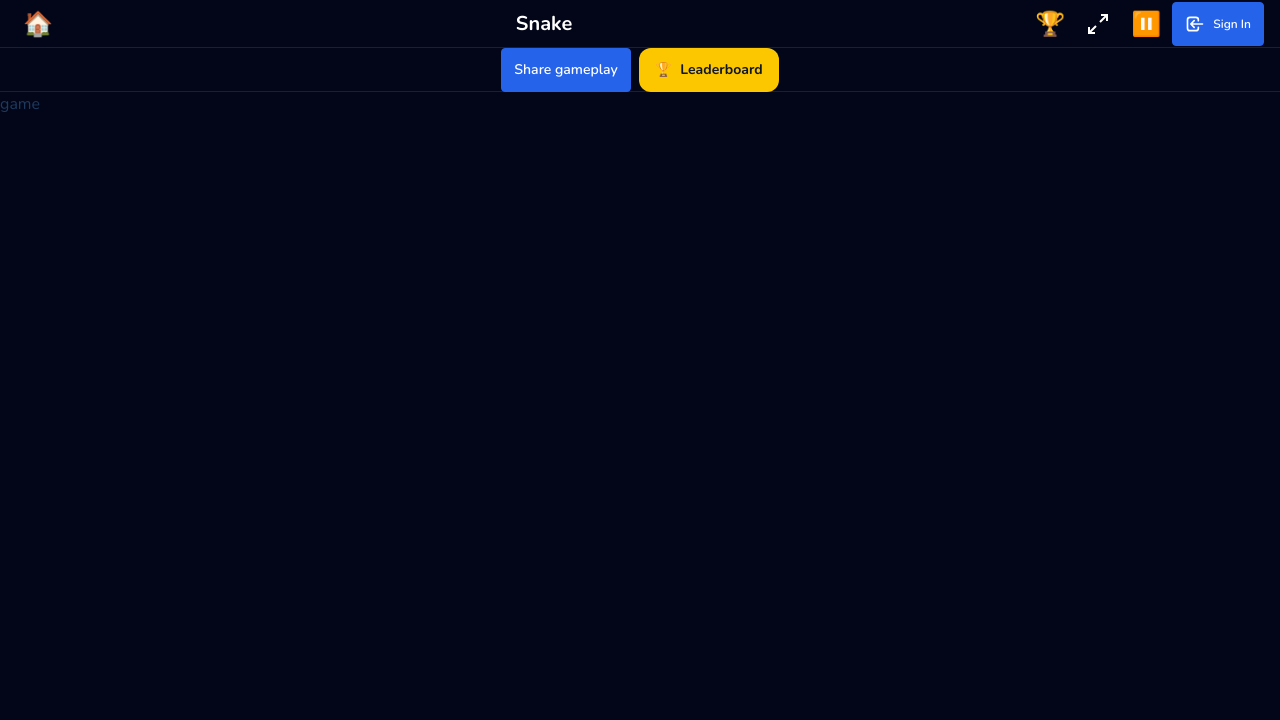
AchievementCelebrations at a break › Yay! closes the card and shows the next trophy in the same slot
What coordinates should you click on to do the following:
click the button named "Pause game"
I would click on:
 (1146, 24)
Its box is x1=1124 y1=2 x2=1168 y2=46.
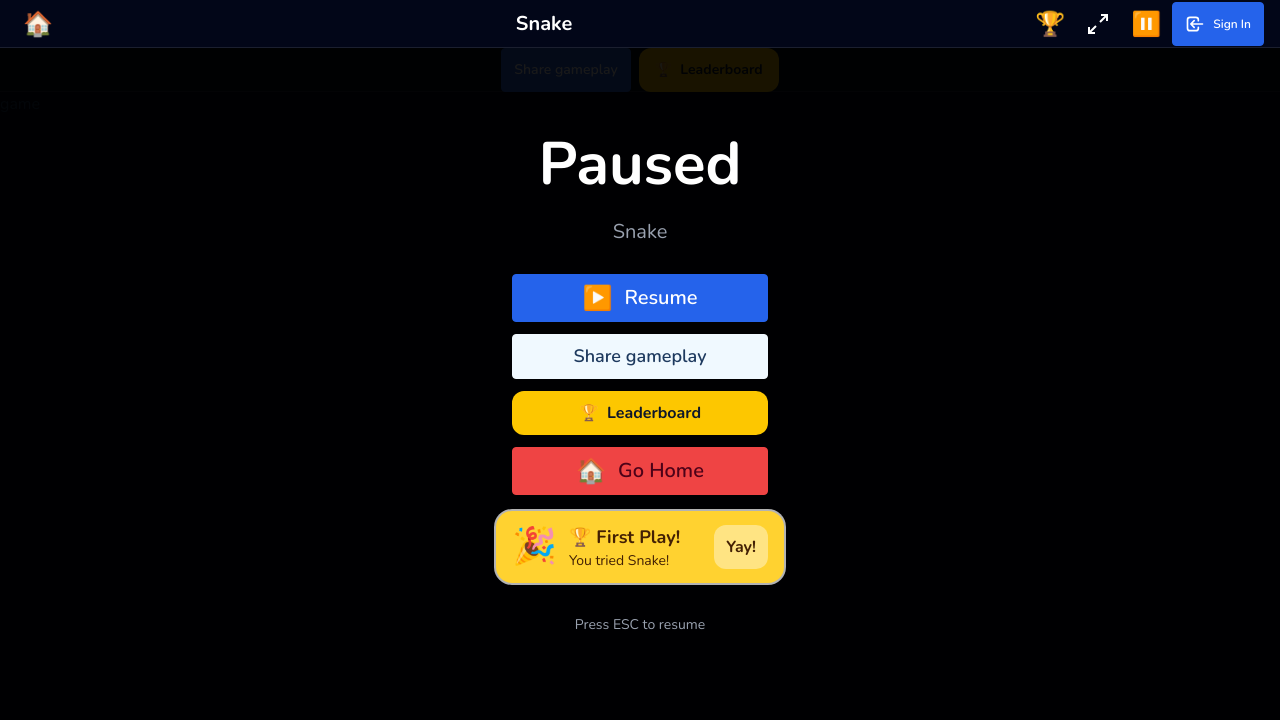
Check: the text "🏆 First Play!" is shown, box x1=569 y1=524 x2=680 y2=548
What coordinates should you click on to do the following:
click the button with aria-label "Dismiss celebration"
I would click on:
 (741, 546)
Its box is x1=714 y1=524 x2=768 y2=568.
Wait 1600 ms
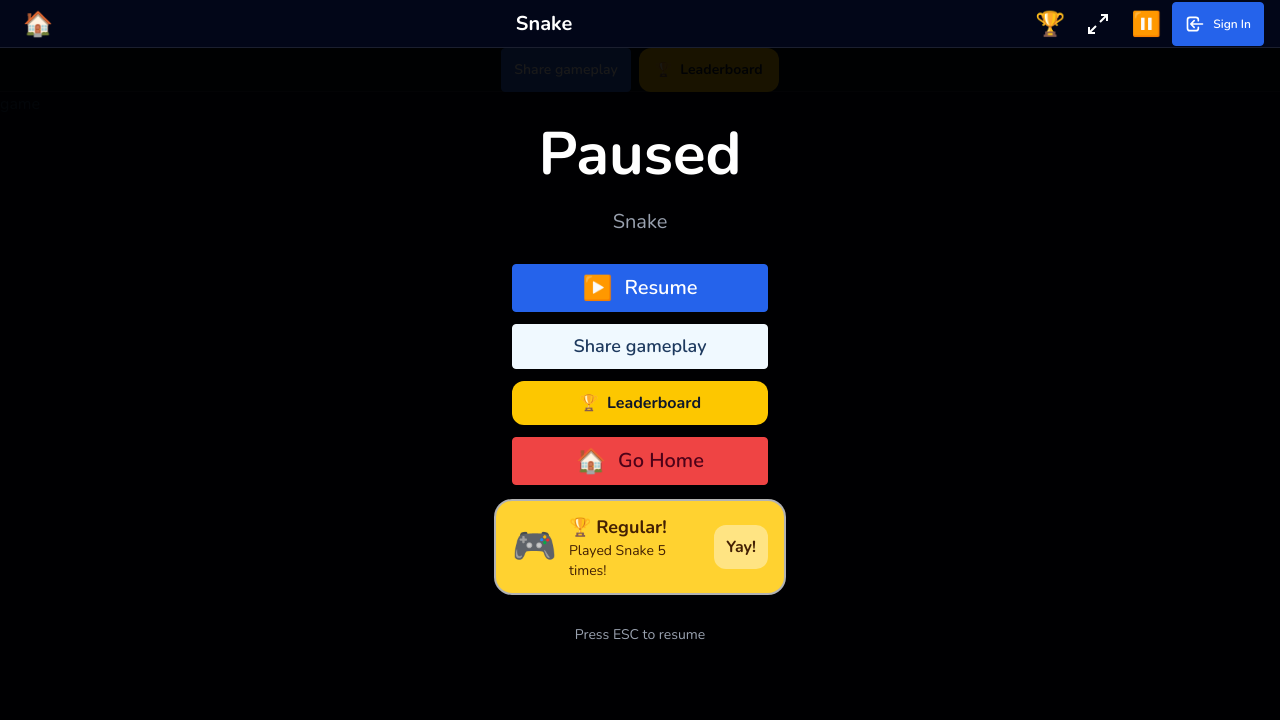
Check: the text "🏆 Regular!" is shown, box x1=569 y1=514 x2=667 y2=538
